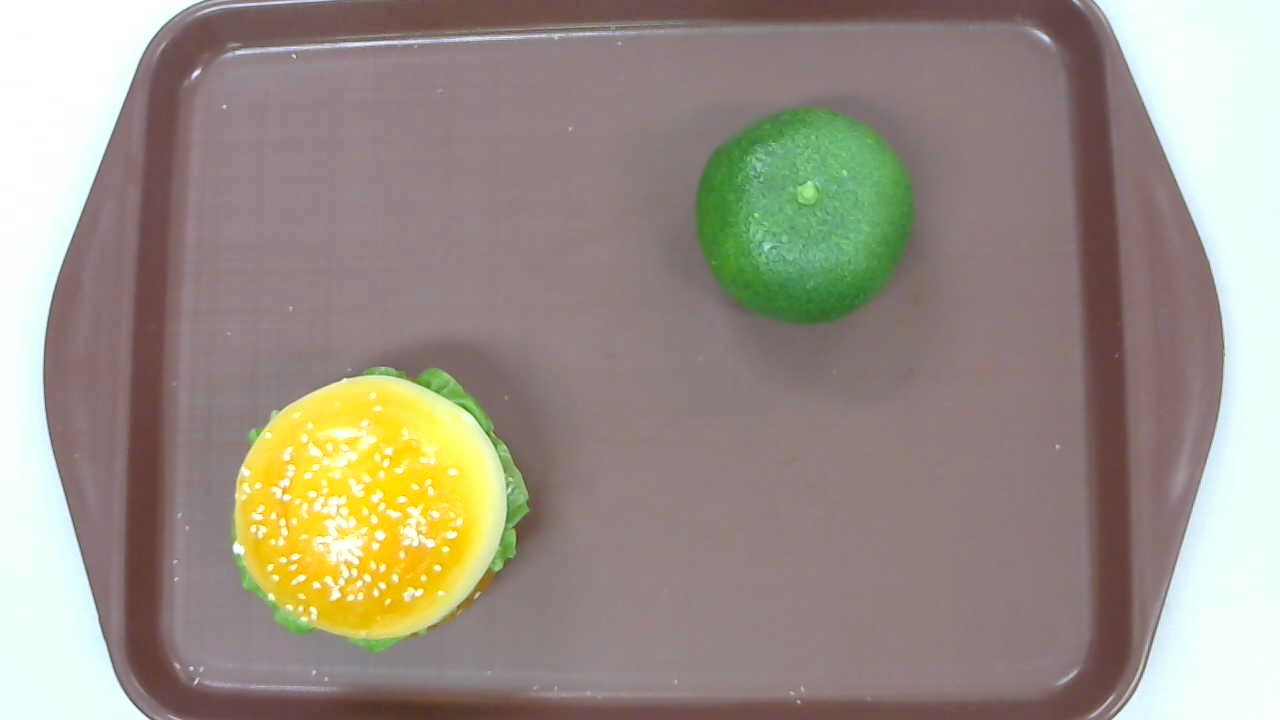green orange: (696, 105, 913, 325)
hamburger: (229, 365, 529, 655)
